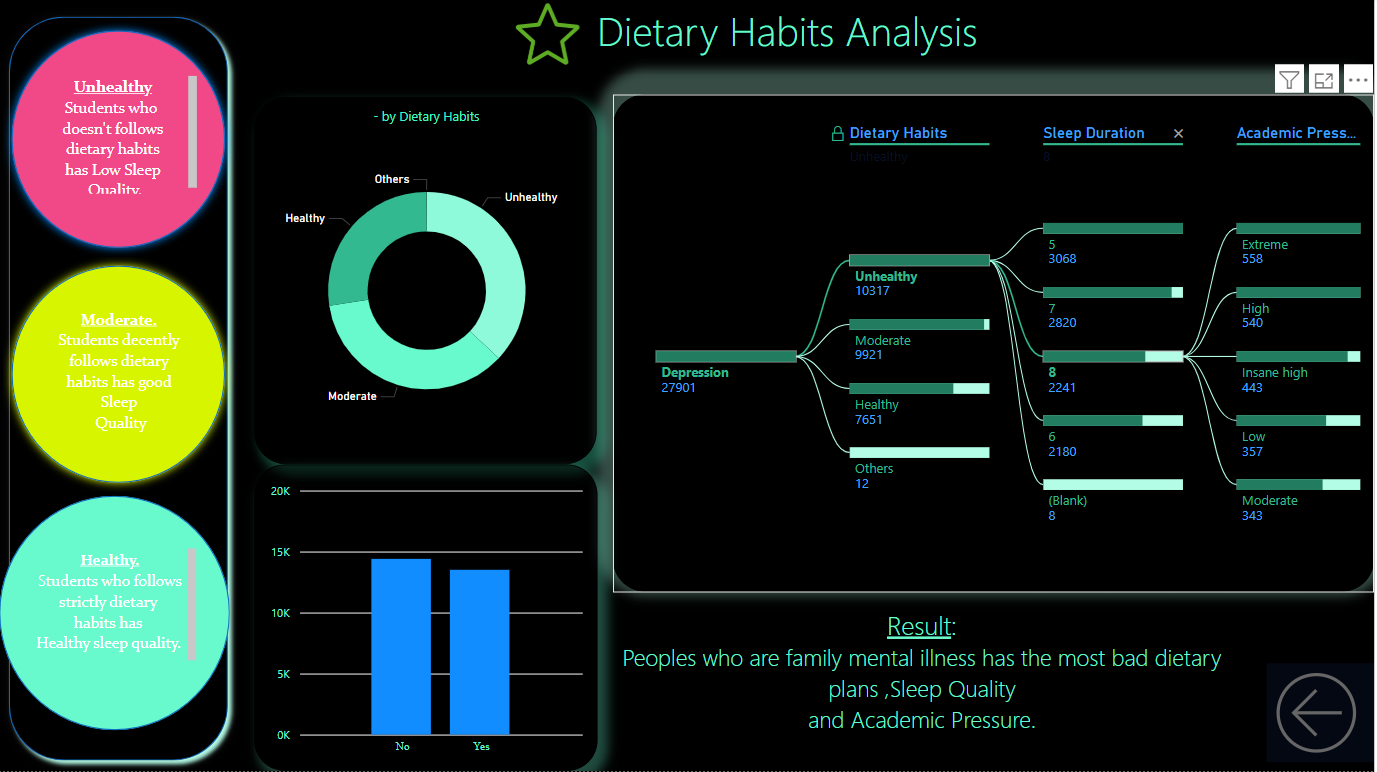

Layout of this report page (visuals, bound fields, positions):
{"tool":"powerbi","page":{"name":"Dietry Habits","canvas":[1280,720],"ordinal":1},"visuals":[{"type":"decompositionTreeVisual","fields":{"ExplainBy":["student_depression_dataset.Dietary Habits","student_depression_dataset.Sleep Duration","student_depression_dataset.Academic  Pressure"],"Analyze":["CountNonNull(student_depression_dataset.Depression)"]},"box":[572.1,90.7,708.1,462.8],"z":0},{"type":"shape","box":[0,8.3,224,712.3],"z":1000},{"type":"shape","box":[4.7,23.7,214.5,218.1],"z":2000},{"type":"textbox","box":[30.8,68.7,158.8,119.7],"z":3000},{"type":"shape","box":[4.7,241.8,214.5,218.1],"z":4000},{"type":"textbox","box":[30.8,284.4,162.4,132.7],"z":5000},{"type":"shape","box":[1.2,463.6,214.5,218.1],"z":6000},{"type":"textbox","box":[27.3,508.7,162.4,119.7],"z":7000},{"type":"actionButton","box":[1180,620,100,92.2],"z":8000},{"type":"donutChart","fields":{"Y":["CountNonNull(student_depression_dataset.id)"],"Category":["student_depression_dataset.Dietary Habits"]},"box":[238.4,93,318.6,341.9],"z":9000},{"type":"textbox","box":[238.4,1.2,991.9,94.2],"z":10000},{"type":"columnChart","fields":{"Category":["student_depression_dataset.Family History of Mental Illness"],"Y":["CountNonNull(student_depression_dataset.Dietary Habits)"]},"box":[238,435,319,285],"z":11000},{"type":"image","box":[420.9,0,181.4,68.6],"z":12000},{"type":"textbox","box":[575.6,562.2,567.8,150],"z":13000}]}

Visuals, with their boxes in screenshot pixels (x1, y1, x2, y2), scaled from the page's 1280x720 canvas onto the 1377x772 screenshot:
decompositionTreeVisual - student_depression_dataset.Dietary Habits x student_depression_dataset.Sleep Duration: detection(615, 97, 1376, 593)
shape: detection(0, 9, 241, 771)
shape: detection(5, 25, 236, 259)
textbox: detection(33, 74, 204, 202)
shape: detection(5, 259, 236, 493)
textbox: detection(33, 305, 208, 447)
shape: detection(1, 497, 232, 731)
textbox: detection(29, 545, 204, 674)
actionButton: detection(1269, 665, 1376, 764)
donutChart - CountNonNull(student_depression_dataset.id) x student_depression_dataset.Dietary Habits: detection(256, 100, 599, 466)
textbox: detection(256, 1, 1324, 102)
columnChart - student_depression_dataset.Family History of Mental Illness x CountNonNull(student_depression_dataset.Dietary Habits): detection(256, 466, 599, 771)
image: detection(453, 0, 648, 74)
textbox: detection(619, 603, 1230, 764)
